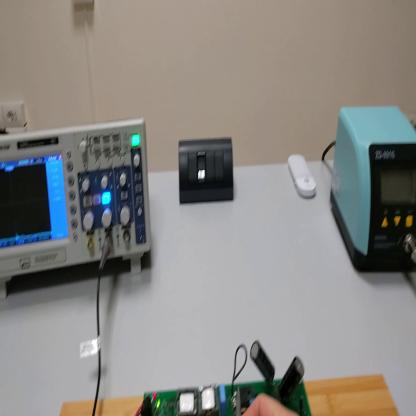hand: (246, 391, 296, 414)
high voltage board: (134, 336, 315, 416)
oscilloscope: (1, 119, 154, 301)
oscilloscope probe tip: (236, 382, 244, 416)
welder station: (329, 107, 416, 277)
working area: (58, 373, 400, 416)
